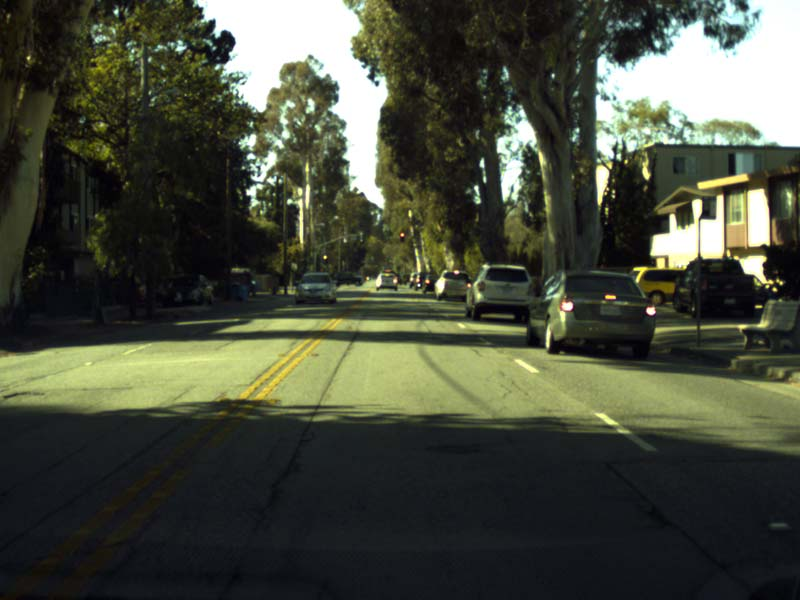Red: (399, 231, 404, 241), (323, 253, 327, 263)
